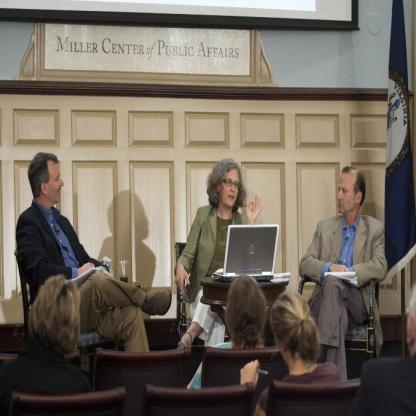board: (213, 225, 279, 278)
